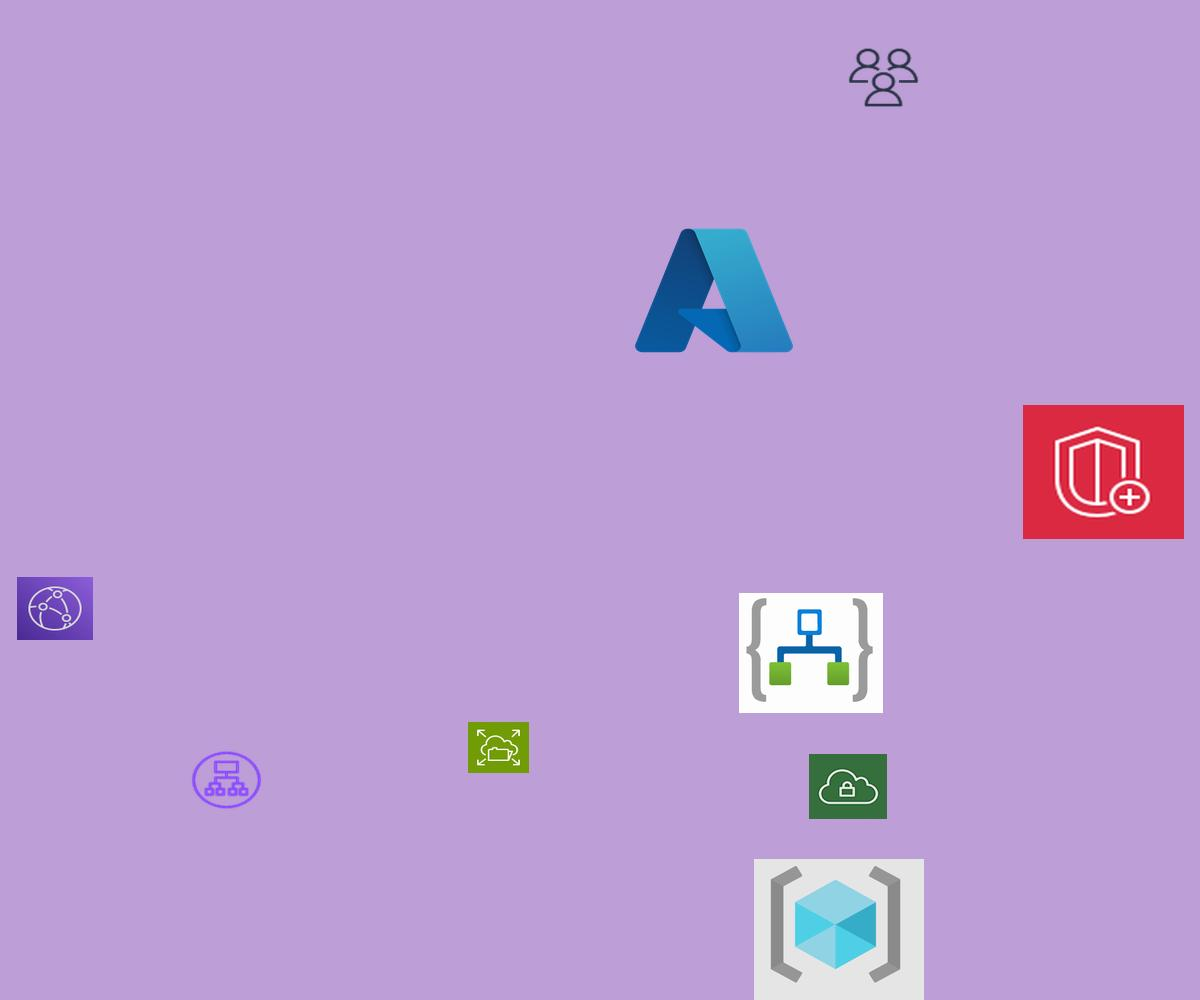AWS-CloudFront: (17, 577, 93, 640)
AWS-EFS: (468, 722, 529, 773)
AWS-Private_vpc: (809, 754, 887, 819)
AWS-Res_Elastic-Load-Balancing_Application-Load-Balancer: (189, 749, 264, 811)
AWS-Res_Users: (846, 46, 921, 109)
AWS-Shield: (1023, 405, 1184, 539)
Azure_integration-204-Logic-Apps: (739, 593, 883, 713)
Azure_resource_group: (754, 859, 924, 1000)
Azure_services: (628, 219, 800, 362)
